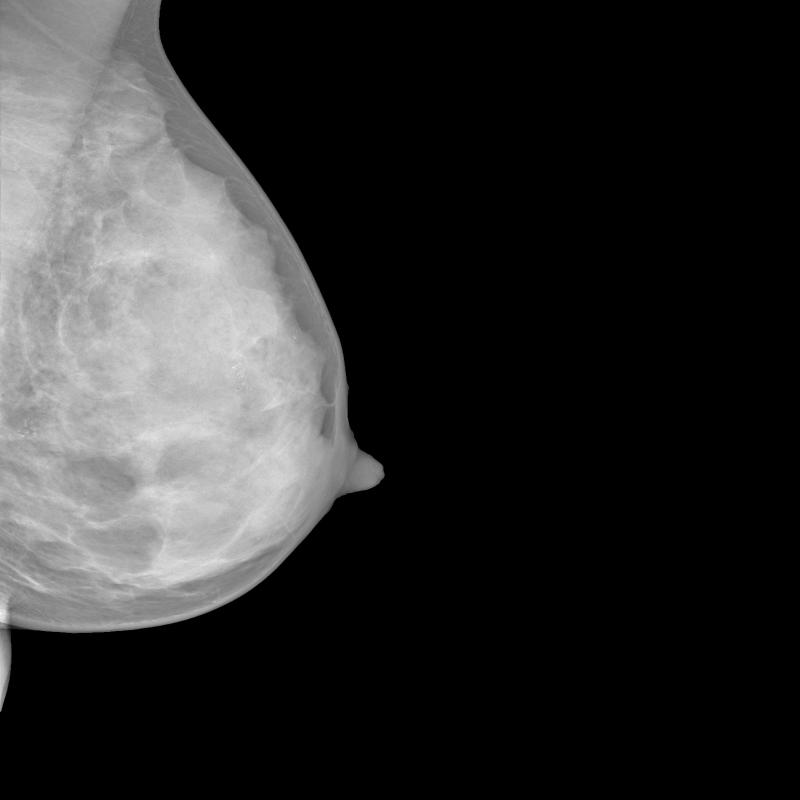No-Mass: (99, 230, 164, 269)
